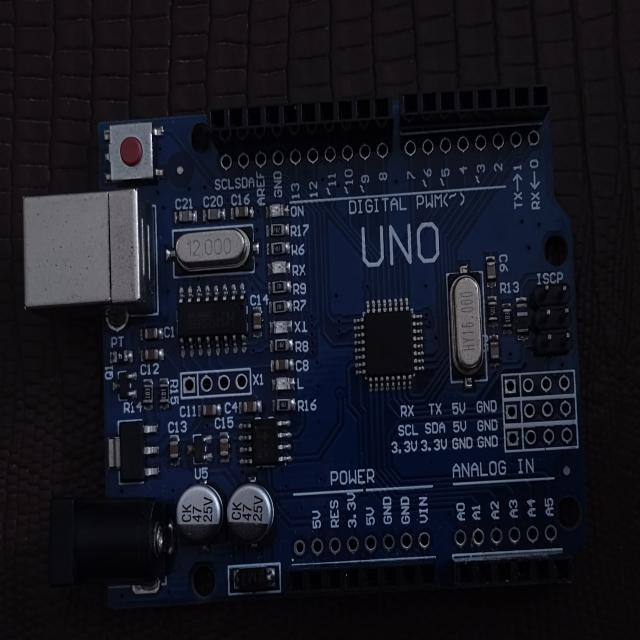arduino: (12, 77, 602, 620)
